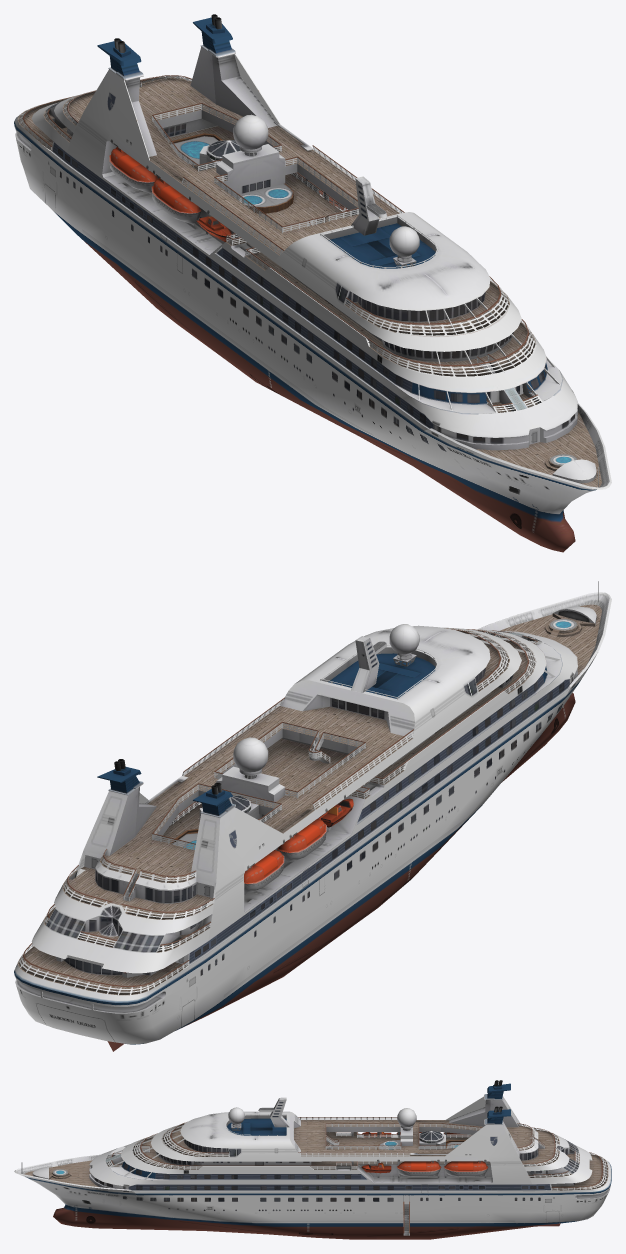
The model's file is yacht.fbx.
3 renders of one model, top to bottom at view 1: azimuth 30°, elevation 25°; view 2: azimuth 150°, elevation 25°; view 3: azimuth 270°, elevation 25°, orthographic. The views are drawn at different scales.
Parts seen in each view (by area): view 1: Cruiseship_WithoutRadars_02 - Default_0; view 2: Cruiseship_WithoutRadars_02 - Default_0; view 3: Cruiseship_WithoutRadars_02 - Default_0.
Boxes of the visible parts, x1,y1,x2,y2 form: Cruiseship_WithoutRadars_02 - Default_0: (14,14,611,552); Cruiseship_WithoutRadars_02 - Default_0: (14,581,611,1051); Cruiseship_WithoutRadars_02 - Default_0: (14,1080,611,1239).
Bounding box in the file's own units: 1076 × 1303 × 5306.
Materials: 1 (1 with a texture image).
